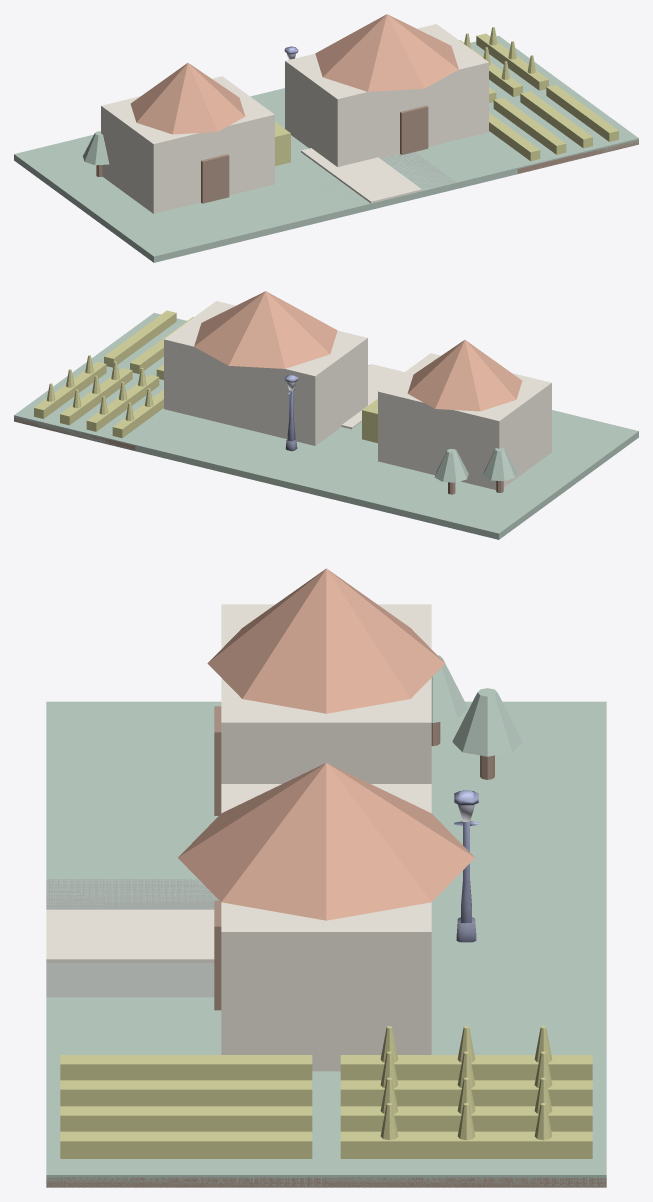
Rendered from farmstead.glb.
3 views of the same model, one above another, from view 1: azimuth 30°, elevation 25°; view 2: azimuth 150°, elevation 25°; view 3: azimuth 270°, elevation 25° (orthographic). The views are drawn at different scales.
Parts seen in each view (by area): view 1: cottage-long, farm-barn, ground-grass.009, ground-grass.011, crop-rows, ground-grass.013, ground-grass.010, ground-path, ground-grass.015, crop-wheat, ground-grass.016, orchard (+2 smaller); view 2: cottage-long, farm-barn, ground-grass.010, ground-grass.012, crop-wheat, ground-grass.014, ground-grass.009, ground-grass.016, crop-rows, orchard, ground-grass.015, ground-path (+1 smaller); view 3: cottage-long, farm-barn, crop-wheat, crop-rows, ground-grass.009, ground-grass.014, ground-path, ground-grass.012, ground-grass.010, ground-grass.011, ground-grass.016, ground-grass.015 (+3 smaller).
Part boxes in pixels (x1=…): cottage-long: x1=285, y1=14, x2=488, y2=166; farm-barn: x1=101, y1=63, x2=290, y2=213; ground-grass.009: x1=84, y1=195, x2=275, y2=262; ground-grass.011: x1=232, y1=152, x2=396, y2=233; crop-rows: x1=489, y1=85, x2=638, y2=173; ground-grass.013: x1=381, y1=136, x2=517, y2=203; ground-grass.010: x1=14, y1=134, x2=126, y2=211; ground-path: x1=301, y1=148, x2=455, y2=210; ground-grass.015: x1=474, y1=87, x2=638, y2=173; crop-wheat: x1=459, y1=27, x2=548, y2=102; ground-grass.016: x1=470, y1=36, x2=568, y2=106; orchard: x1=83, y1=131, x2=109, y2=176; cottage-long: x1=164, y1=291, x2=367, y2=445; farm-barn: x1=362, y1=340, x2=551, y2=489; ground-grass.010: x1=377, y1=472, x2=568, y2=539; ground-grass.012: x1=256, y1=427, x2=420, y2=510; crop-wheat: x1=14, y1=355, x2=163, y2=450; ground-grass.014: x1=135, y1=413, x2=299, y2=480; ground-grass.009: x1=526, y1=410, x2=638, y2=488; ground-grass.016: x1=14, y1=364, x2=178, y2=450; crop-rows: x1=104, y1=310, x2=193, y2=379; orchard: x1=434, y1=447, x2=516, y2=494; ground-grass.015: x1=84, y1=313, x2=186, y2=383; ground-path: x1=341, y1=364, x2=404, y2=429; cottage-long: x1=178, y1=763, x2=474, y2=1071; farm-barn: x1=207, y1=568, x2=445, y2=815; crop-wheat: x1=326, y1=1026, x2=606, y2=1187; crop-rows: x1=46, y1=1055, x2=326, y2=1187; ground-grass.009: x1=46, y1=701, x2=221, y2=819; ground-grass.014: x1=431, y1=938, x2=606, y2=1056; ground-path: x1=46, y1=879, x2=219, y2=997; ground-grass.012: x1=431, y1=820, x2=606, y2=938; ground-grass.010: x1=431, y1=701, x2=606, y2=819; ground-grass.011: x1=46, y1=820, x2=218, y2=907; ground-grass.016: x1=326, y1=1056, x2=606, y2=1187; ground-grass.015: x1=46, y1=1056, x2=326, y2=1187.
Bounding box in the file's own units: 8 × 1.95 × 4.
7 materials, 1 textured.
